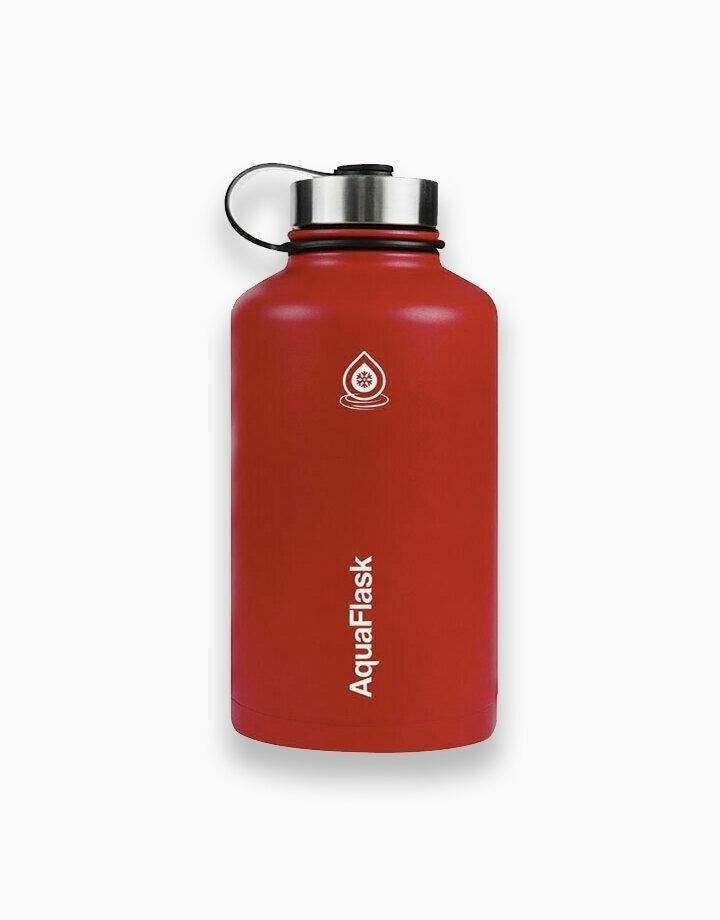gym bottle: (223, 158, 504, 758)
